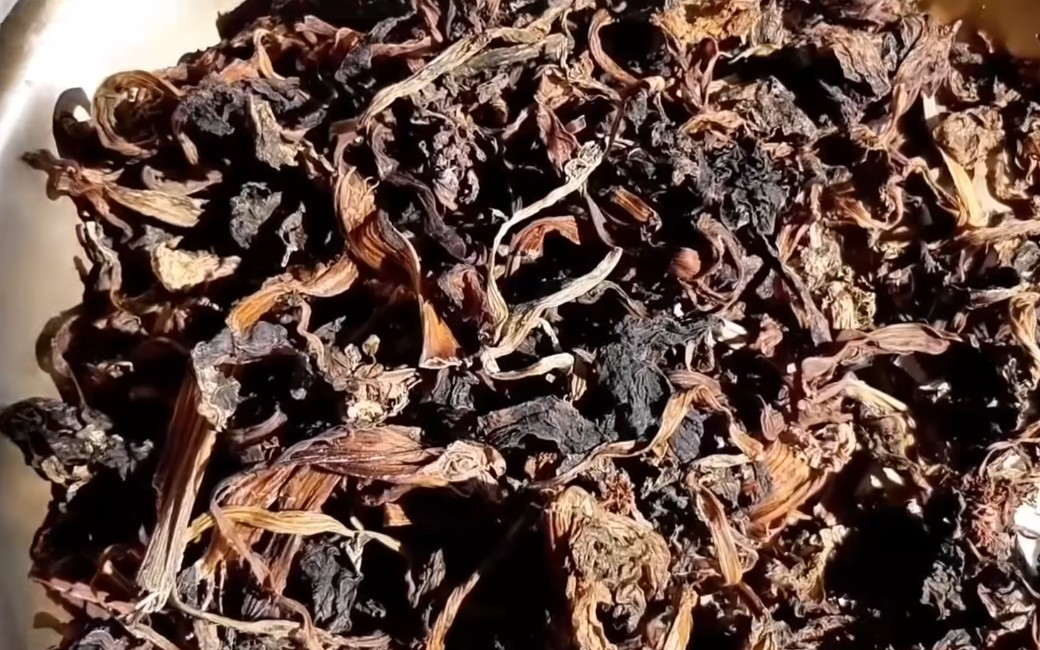gundruk: (41, 23, 1027, 637)
